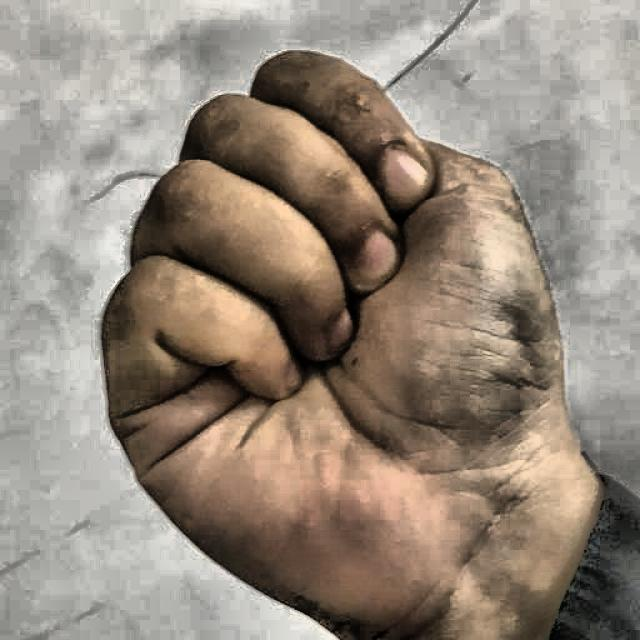To: (76, 31, 592, 640)
